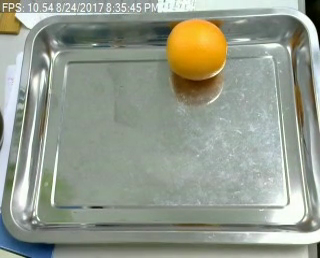Orange: (165, 19, 227, 78)
